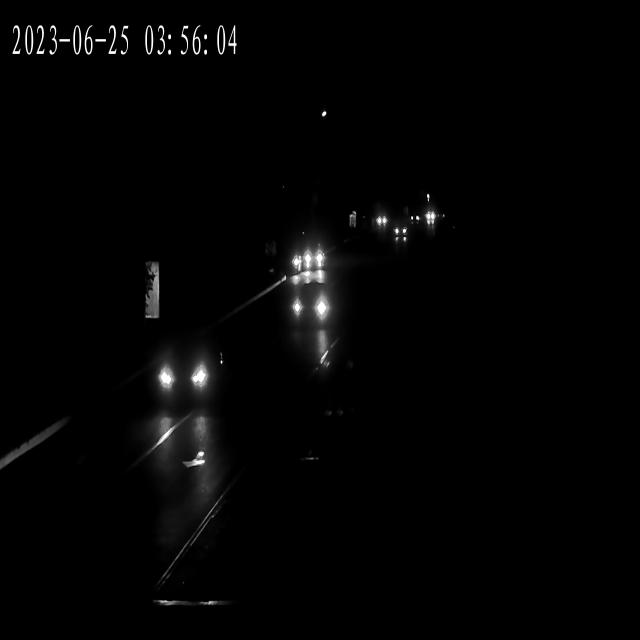Car: (152, 339, 222, 400), (291, 290, 333, 328), (300, 243, 328, 268), (300, 246, 326, 272), (294, 266, 324, 286), (407, 210, 430, 227), (290, 250, 309, 270), (368, 212, 387, 230), (390, 225, 407, 243), (371, 213, 389, 230), (421, 210, 438, 228)
